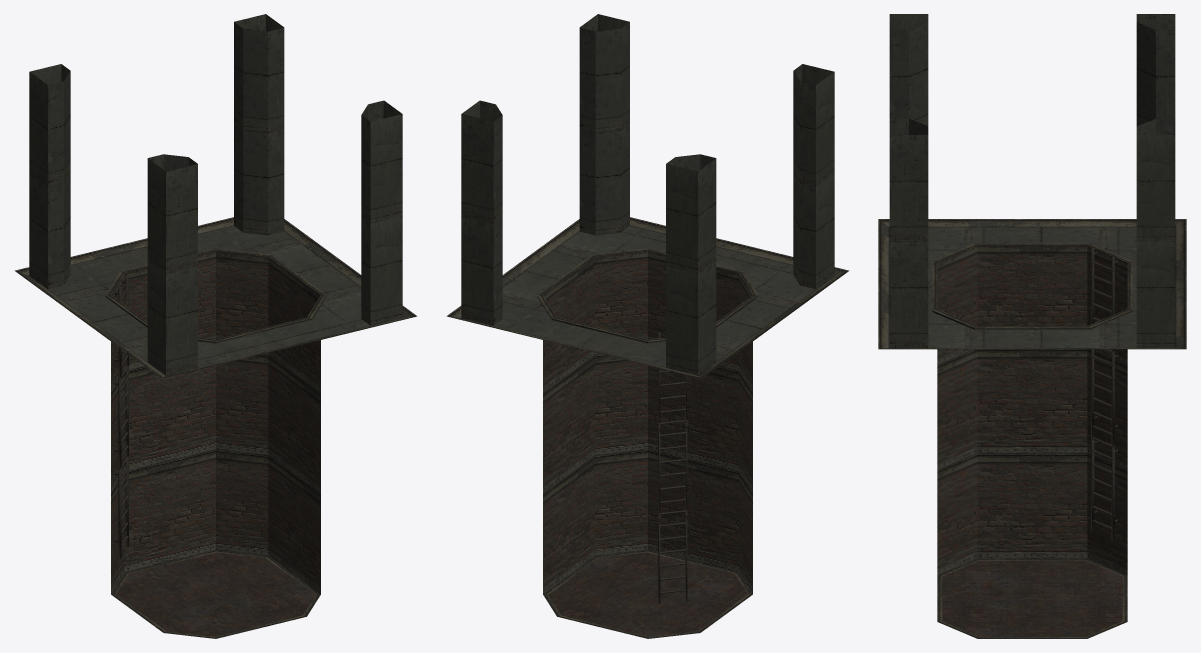
The model's file is structure_piece_rg_1_1.obj.
3 renders of one model, left to right at view 1: azimuth 30°, elevation 25°; view 2: azimuth 150°, elevation 25°; view 3: azimuth 270°, elevation 25°, orthographic. The views are drawn at different scales.
Visible parts, largest first — view 1: structure_piece_rg_1_1; view 2: structure_piece_rg_1_1; view 3: structure_piece_rg_1_1.
Boxes of the visible parts, left/top/right/bottom form: structure_piece_rg_1_1: left=14, top=14, right=417, bottom=638; structure_piece_rg_1_1: left=446, top=14, right=849, bottom=638; structure_piece_rg_1_1: left=878, top=14, right=1186, bottom=638.
Size of the model in its own units: 8 by 15 by 8.
